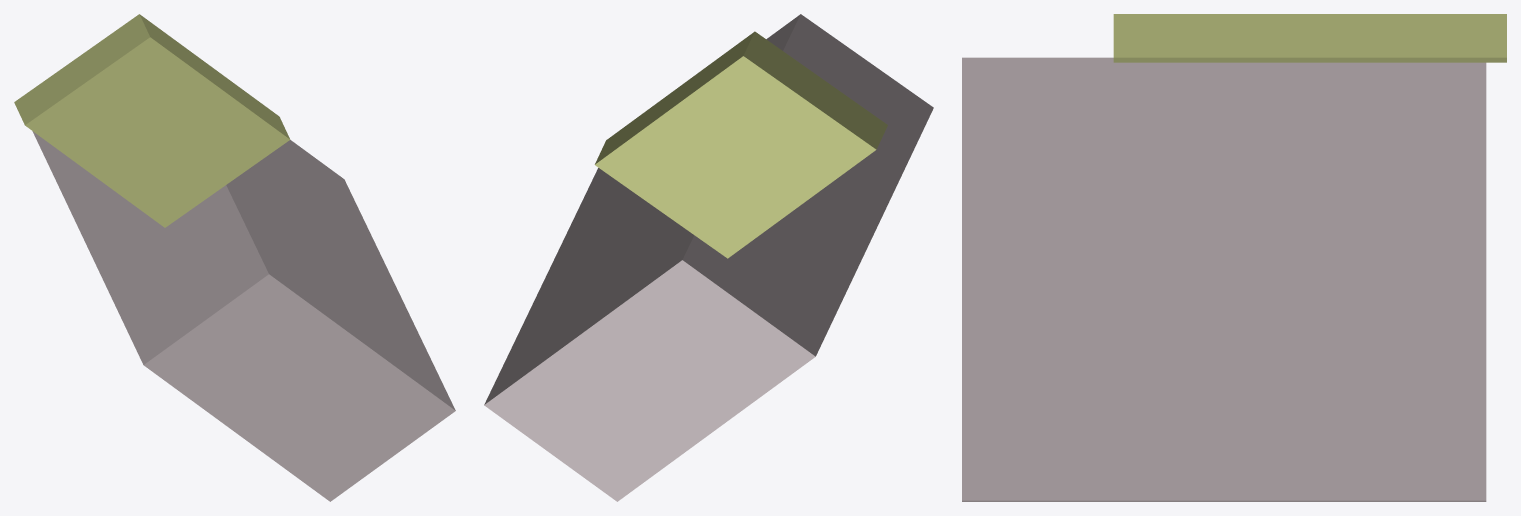
The picture shows the model from 3 angles, left to right: view 1: azimuth 30°, elevation 25°; view 2: azimuth 150°, elevation 25°; view 3: azimuth 270°, elevation 25°; orthographic projection. The views are drawn at different scales.
Visible parts, largest first — view 1: 0_2_2_0_0_0_0_2_2_2_2; view 2: 0_2_2_0_0_0_0_2_2_2_2; view 3: 0_2_2_0_0_0_0_2_2_2_2.
Boxes of the visible parts, x1=… form: 0_2_2_0_0_0_0_2_2_2_2: x1=14, y1=14, x2=455, y2=501; 0_2_2_0_0_0_0_2_2_2_2: x1=484, y1=14, x2=933, y2=501; 0_2_2_0_0_0_0_2_2_2_2: x1=962, y1=14, x2=1506, y2=501.
Bounding box in the file's own units: 9.18 × 12.23 × 12.47.
